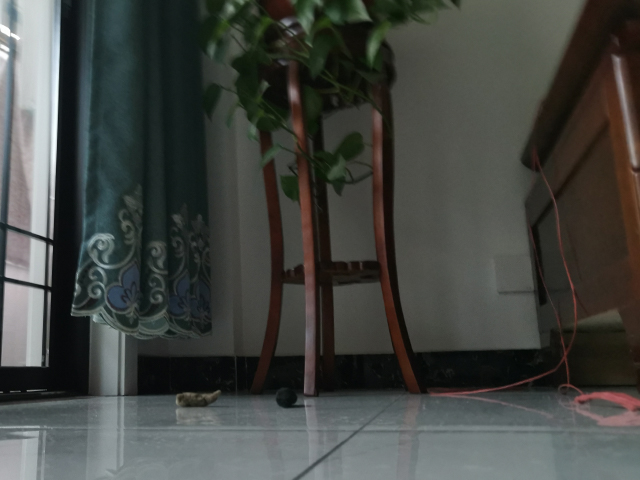curtain: (67, 1, 218, 344)
feces: (173, 389, 222, 409), (273, 385, 299, 409)
